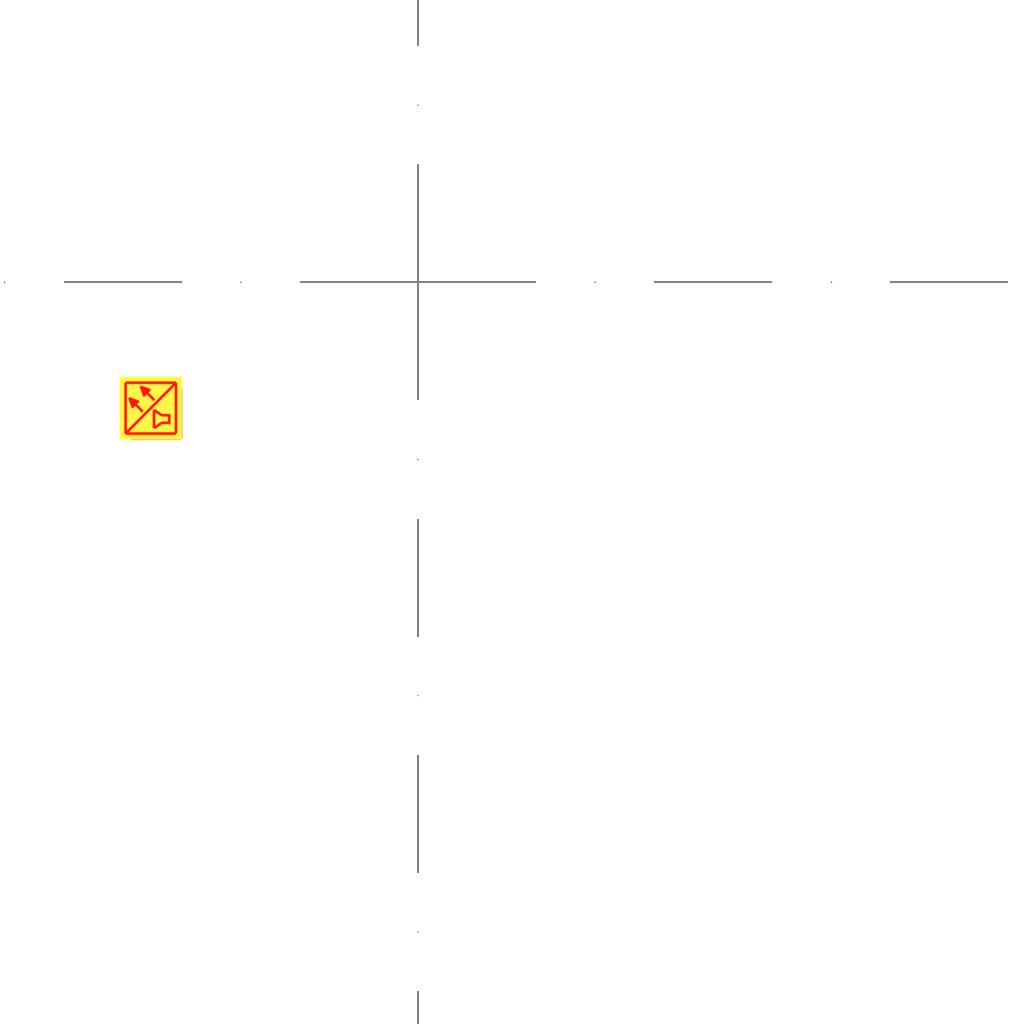OKW_Multisensormelder_(Kombination_optischer_Rauch-Kahlenmonoxid_Waerme-Melder): (118, 375, 184, 441)
